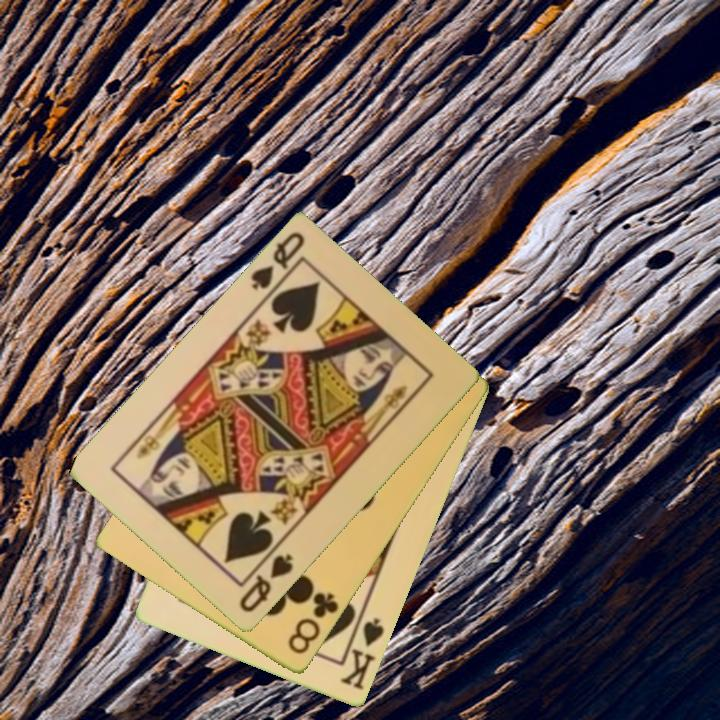8c: (284, 589, 342, 658)
Ks: (337, 610, 388, 694)
Qs: (236, 550, 297, 616), (247, 229, 308, 294)
